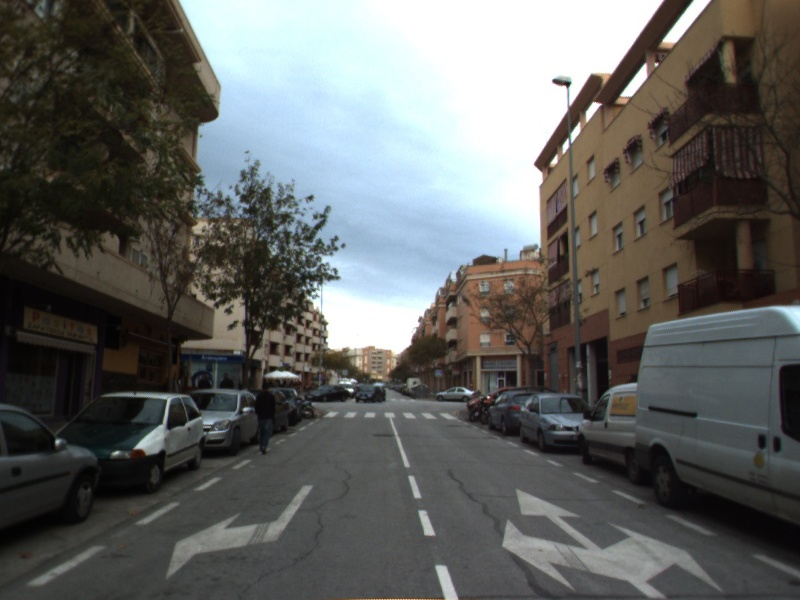STRAIGHT_LEFT_RIGHT: (498, 484, 728, 600)
